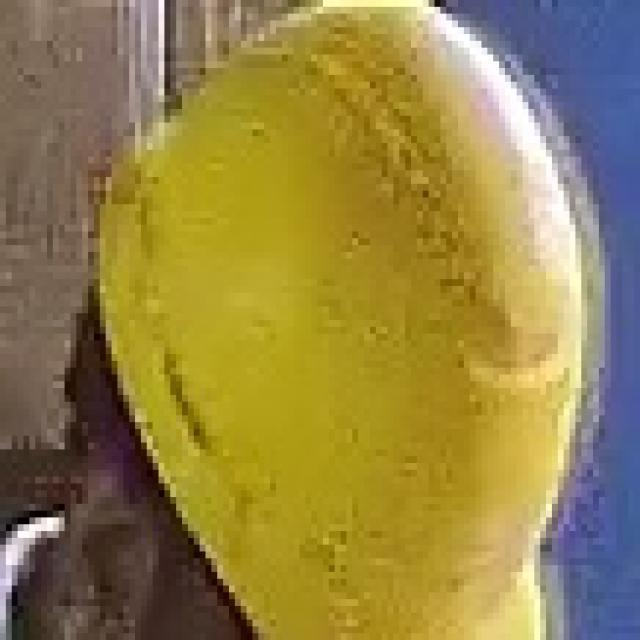yellow helmet: (101, 3, 602, 640)
